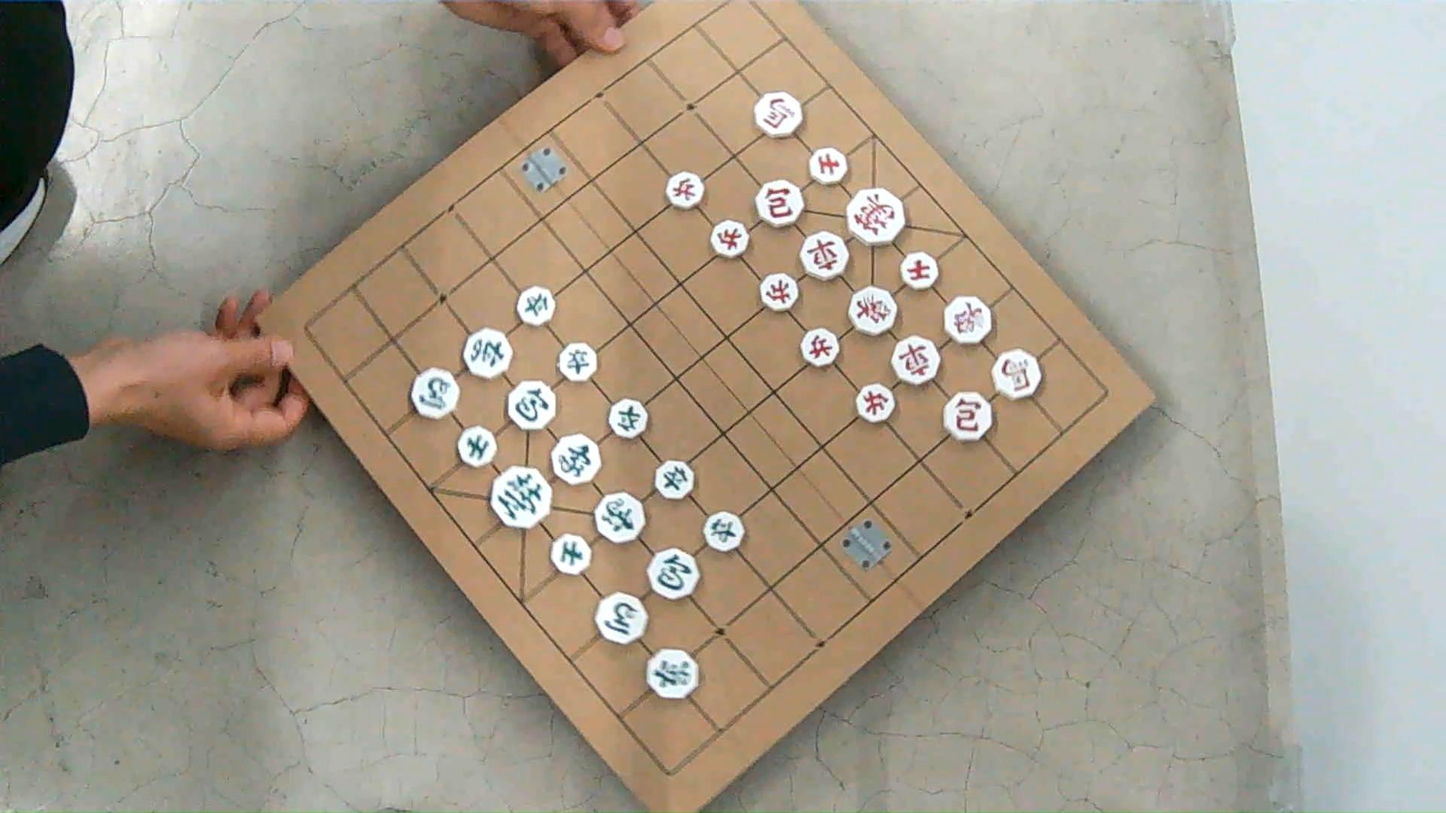cha_green: (647, 648, 700, 699), (463, 328, 511, 379)
cha_red: (892, 336, 940, 385), (801, 231, 848, 280)
jol_green: (703, 512, 743, 552), (517, 286, 556, 325), (609, 399, 648, 438), (654, 461, 694, 499), (558, 343, 596, 382)
jol_red: (856, 383, 895, 422), (759, 273, 798, 311), (801, 328, 839, 366), (665, 172, 704, 209), (711, 220, 747, 257)
ma_green: (595, 592, 647, 644), (410, 368, 458, 419)
ma_red: (991, 349, 1043, 400), (754, 92, 802, 137)
po_green: (648, 548, 699, 599), (507, 380, 556, 430)
po_red: (944, 392, 992, 441), (755, 181, 803, 227)
sa_green: (551, 534, 590, 574), (457, 426, 495, 467)
sa_red: (901, 251, 939, 290), (809, 147, 847, 184)
sang_green: (595, 492, 645, 544), (551, 434, 601, 485)
sang_red: (850, 286, 897, 336), (944, 296, 992, 344)
wang_green: (491, 466, 551, 528)
wang_red: (847, 188, 905, 245)
